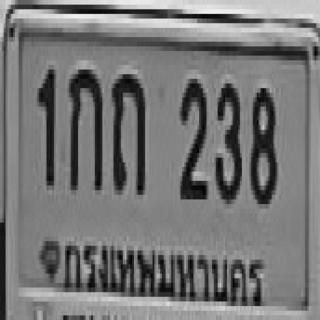A01: (67, 65, 100, 186)
A22: (110, 70, 143, 190)
N01: (36, 63, 54, 183)
N02: (178, 74, 206, 195)
N03: (214, 79, 240, 200)
N08: (249, 81, 275, 197)
P04: (58, 229, 269, 315)
